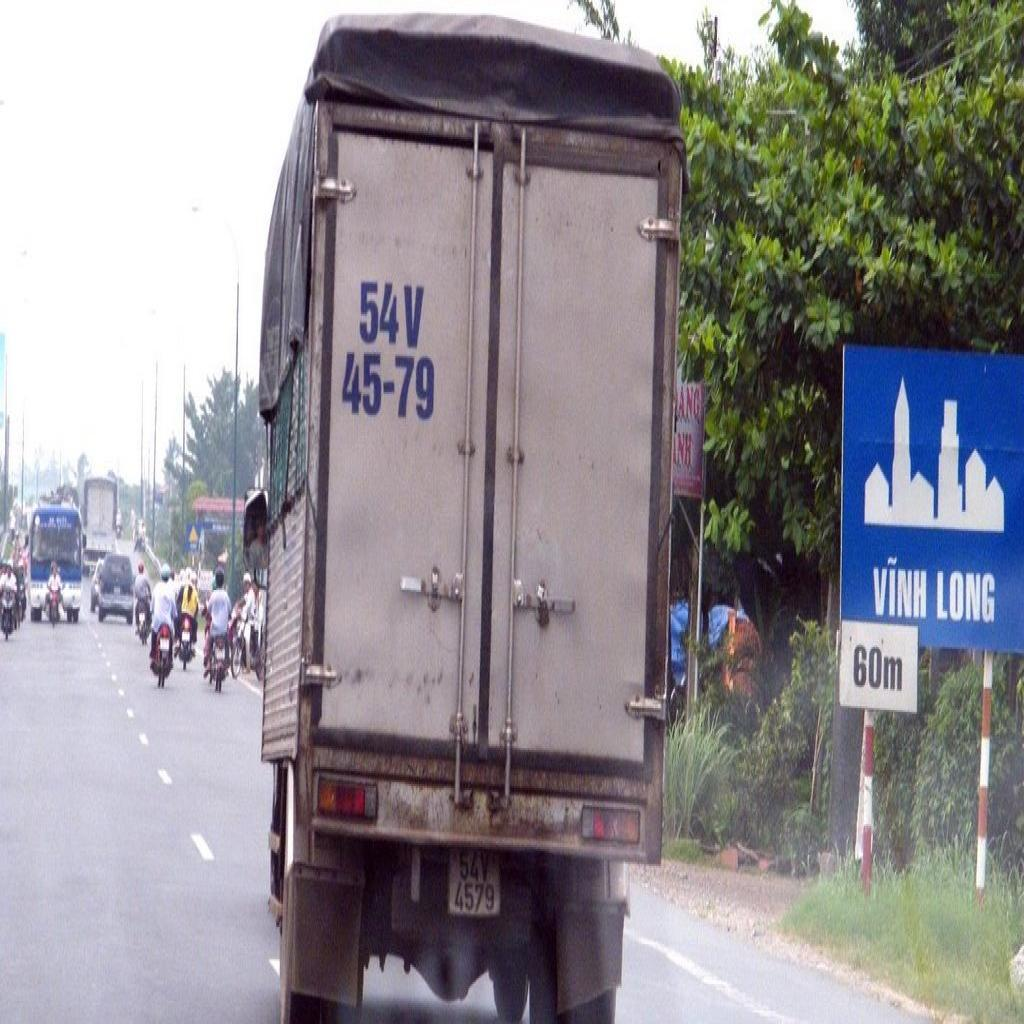text: (872, 554, 928, 622), (935, 567, 998, 626), (357, 276, 403, 348), (341, 346, 382, 420), (394, 352, 436, 423), (403, 282, 426, 354), (853, 643, 885, 693), (453, 880, 496, 916), (677, 382, 702, 424), (458, 847, 481, 883), (883, 655, 903, 693), (676, 428, 693, 470), (480, 851, 492, 885)
